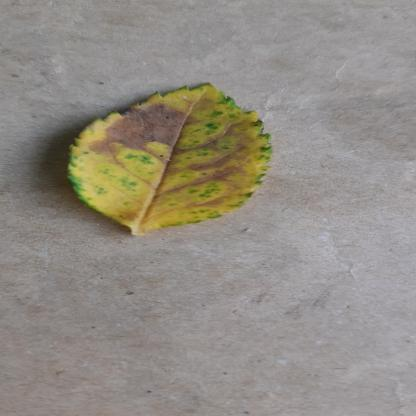black-spot: (50, 82, 282, 242)
